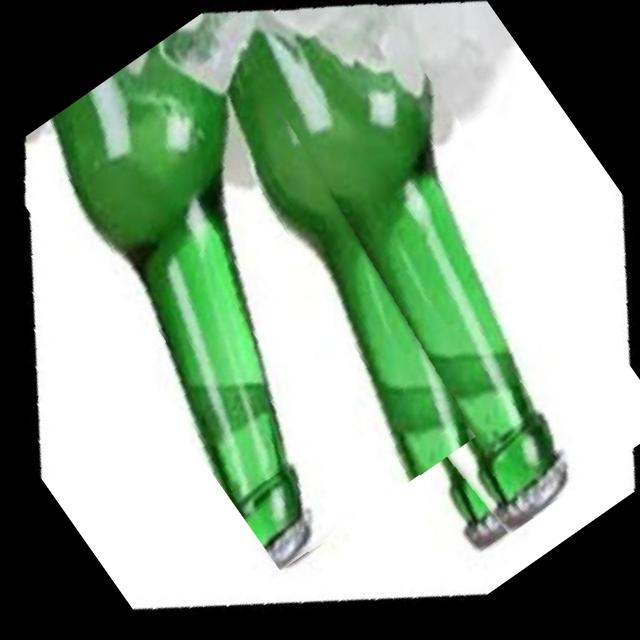Glass: (0, 2, 505, 572), (155, 0, 640, 556)
